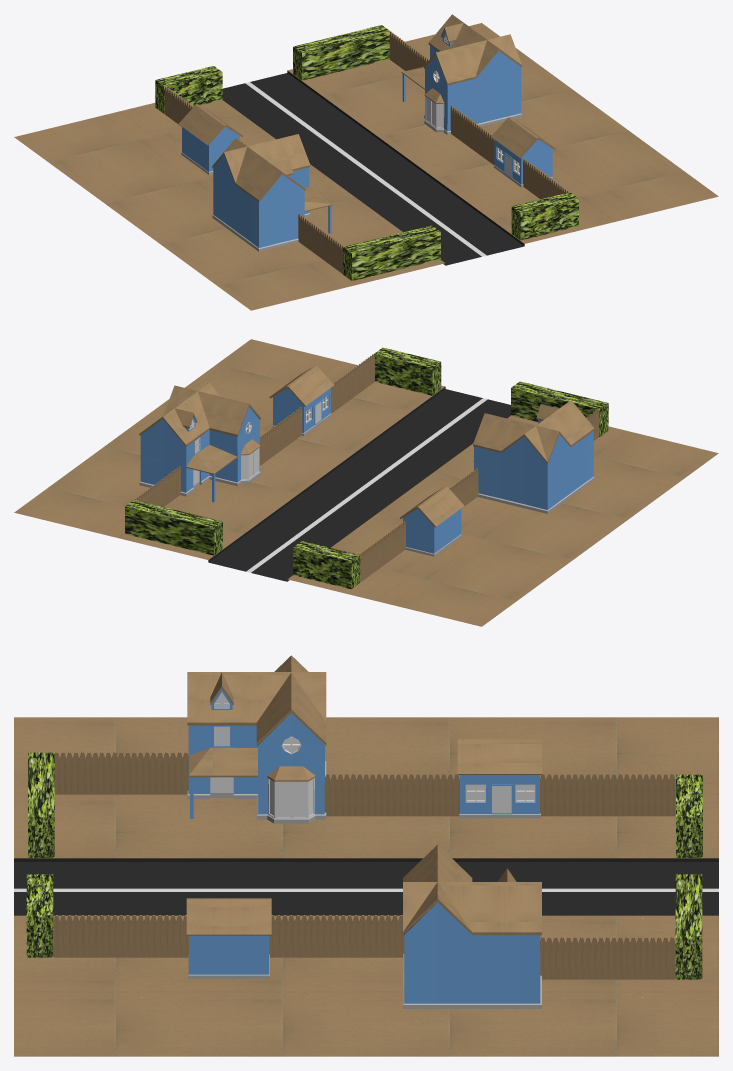
File: delivery environment 2.fbx
The picture shows the model from 3 angles, top to bottom: view 1: azimuth 30°, elevation 25°; view 2: azimuth 150°, elevation 25°; view 3: azimuth 270°, elevation 25°; orthographic projection. The views are drawn at different scales.
Visible parts, largest first — view 1: Plane, Cube.001, Cube.003, Cube.010, Cube.012, Cube.004, Cube.002, Cube.011, Cube.013, Cube.009, Cube, Cube.005 (+2 smaller); view 2: Plane, Cube.001, Cube.003, Cube.012, Cube.002, Cube.004, Cube.013, Cube.011, Cube.010, Cube.008, Cube.005, Cube (+2 smaller); view 3: Plane, Cube.001, Cube.003, Cube.002, Cube.004, Cube.008, Cube.007, Cube.006, Cube.009, Cube.005, Cube, Cube.012 (+3 smaller).
Boxes of the visible parts, x1,y1,x2,y2 form: Plane: (14, 23, 718, 310); Cube.001: (212, 134, 332, 251); Cube.003: (401, 14, 522, 134); Cube.010: (343, 225, 440, 280); Cube.012: (293, 25, 390, 80); Cube.004: (491, 117, 555, 187); Cube.002: (179, 104, 243, 174); Cube.011: (511, 192, 578, 240); Cube.013: (155, 66, 222, 113); Cube.009: (298, 213, 344, 273); Cube: (450, 105, 494, 164); Cube.005: (523, 158, 569, 199); Plane: (14, 339, 718, 626); Cube.001: (473, 400, 594, 513); Cube.003: (139, 382, 260, 502); Cube.012: (125, 500, 222, 555); Cube.002: (400, 486, 464, 556); Cube.004: (269, 365, 333, 435); Cube.013: (293, 541, 360, 589); Cube.011: (374, 347, 441, 395); Cube.010: (511, 381, 608, 436); Cube.008: (359, 521, 405, 582); Cube.005: (331, 354, 374, 413); Cube: (260, 407, 302, 465); Plane: (14, 717, 718, 1056); Cube.001: (187, 655, 326, 823); Cube.003: (403, 844, 541, 1008); Cube.002: (457, 737, 542, 818); Cube.004: (186, 898, 271, 978); Cube.008: (540, 773, 675, 816); Cube.007: (324, 773, 459, 816); Cube.006: (540, 937, 675, 979); Cube.009: (54, 752, 188, 794); Cube.005: (53, 915, 188, 957); Cube: (269, 915, 404, 957); Cube.012: (675, 874, 702, 979).
Size of the model in its own units: 6014 by 941 by 5280.
